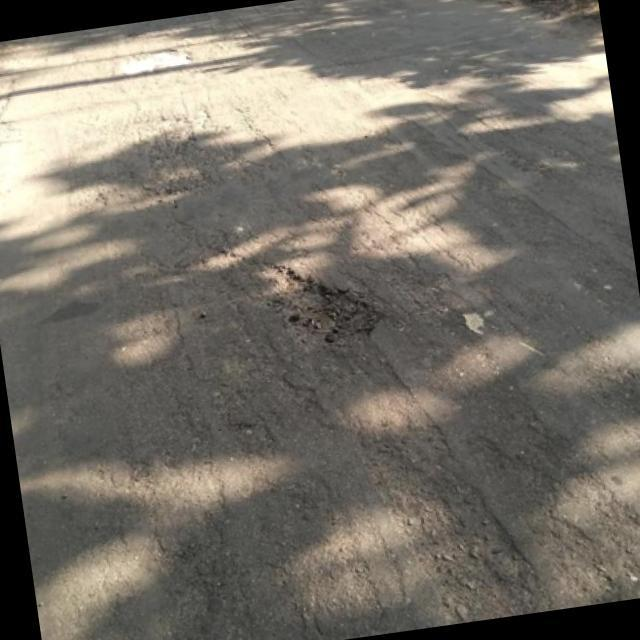Pothole: (271, 271, 380, 341)
